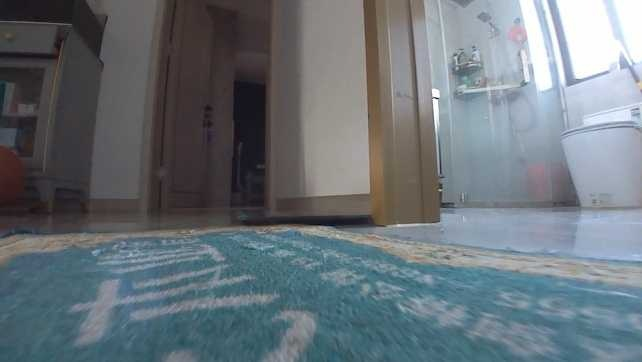blanket: (1, 221, 640, 361)
door_anno: (153, 2, 215, 210)
toilet: (558, 101, 640, 211)
